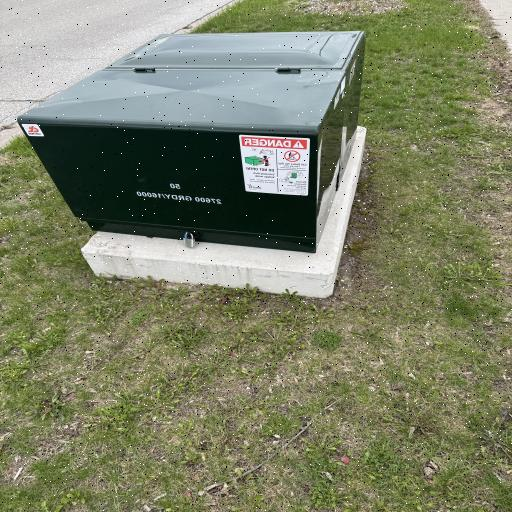Electrical Box: (18, 28, 370, 252)
